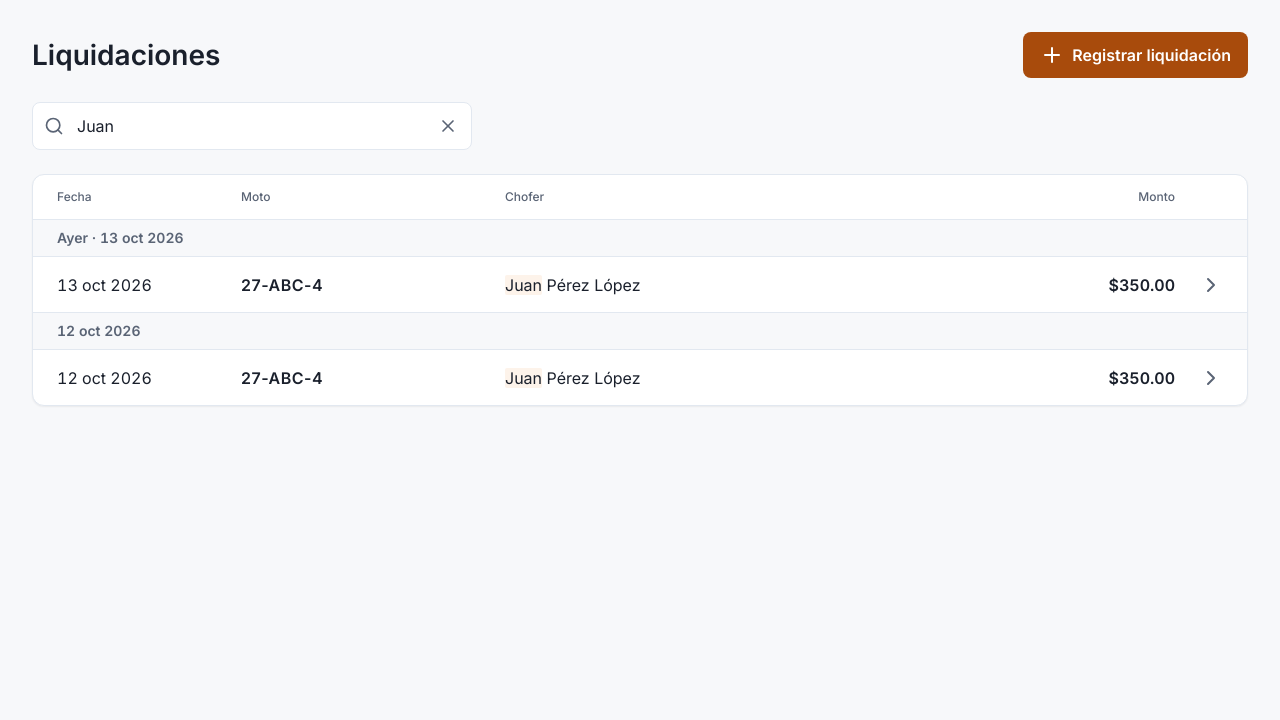
Scenario: historial › el botón X limpia la búsqueda y devuelve el foco al buscador
Expected: the search field named "Buscar liquidaciones" holds "Juan", x1=32 y1=102 x2=472 y2=150
Click the button named "Borrar búsqueda": click(448, 126) x1=426 y1=104 x2=470 y2=148
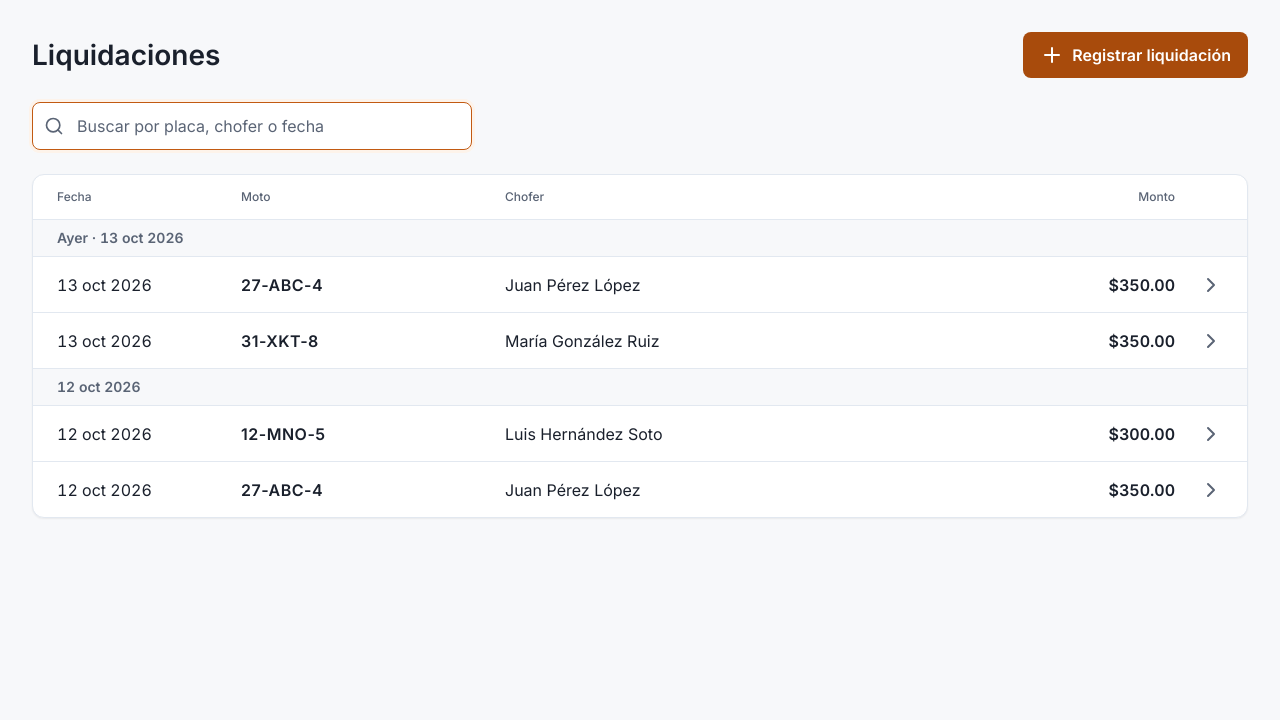
Now the search field named "Buscar liquidaciones" is empty, box x1=32 y1=102 x2=472 y2=150
